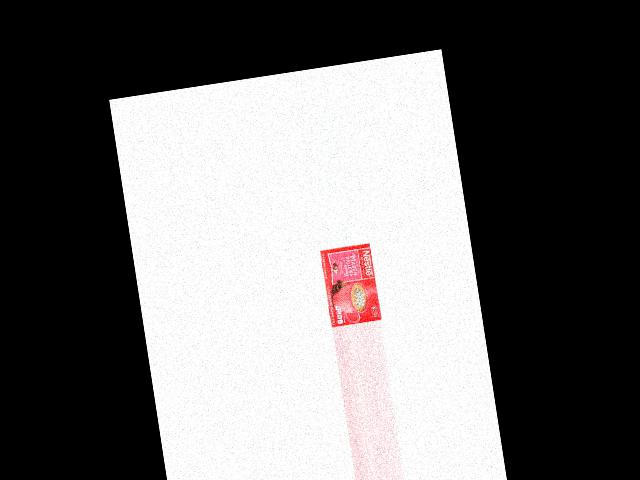chocolate: (317, 245, 379, 328)
